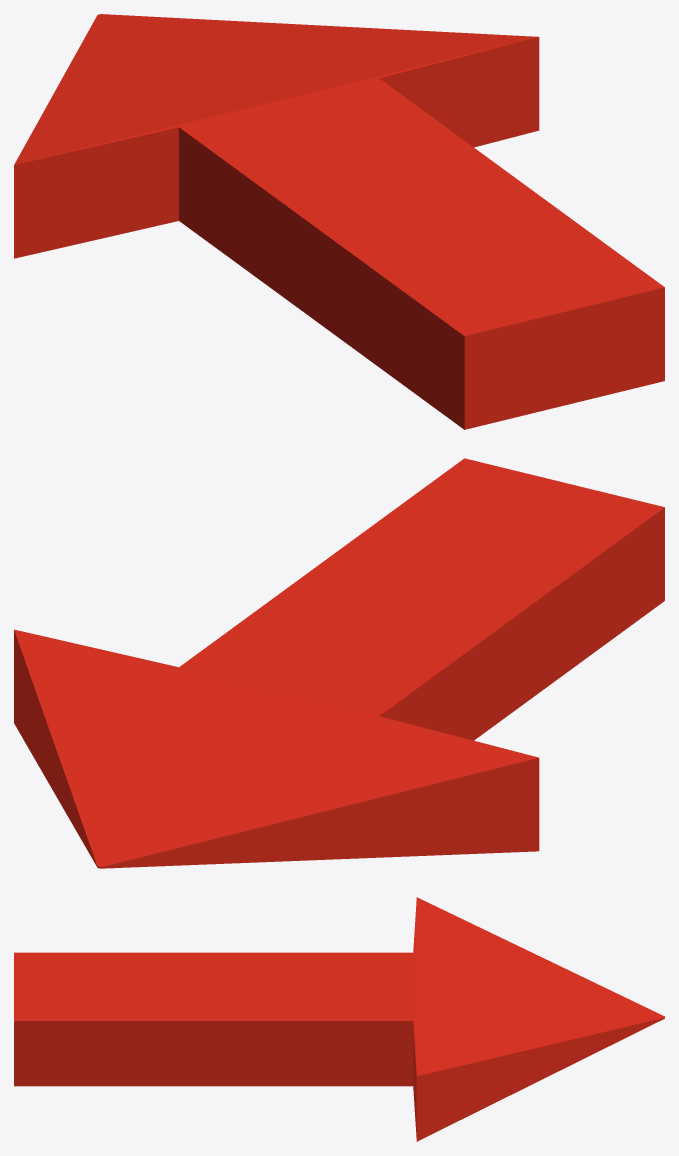
3 renders of one model, top to bottom at view 1: azimuth 30°, elevation 25°; view 2: azimuth 150°, elevation 25°; view 3: azimuth 270°, elevation 25°, orthographic. The views are drawn at different scales.
Visible parts, largest first — view 1: Cube; view 2: Cube; view 3: Cube.
Part boxes in pixels (x1,y1,x2,y2): Cube: (14, 14, 664, 429); Cube: (14, 458, 664, 868); Cube: (14, 897, 664, 1141).
Bounding box in the file's own units: 326 × 55.58 × 501.
